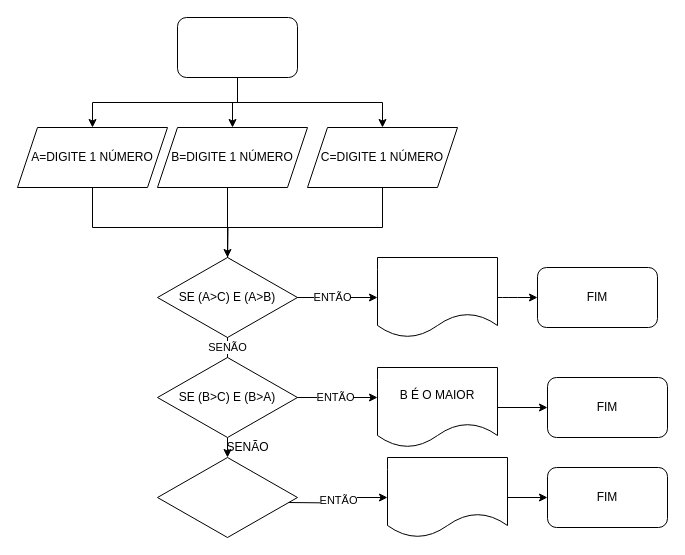
The diagram is 685 pixels wide and 555 high, and some of its shapes have lost their labels. Each missing label, with the centre of its shape:
A É O MAIOR: the point at 437,297
C É O MAIOR: the point at 447,497
Inicio: the point at 237,47
SE (C>B) E (C>A): the point at 227,497
